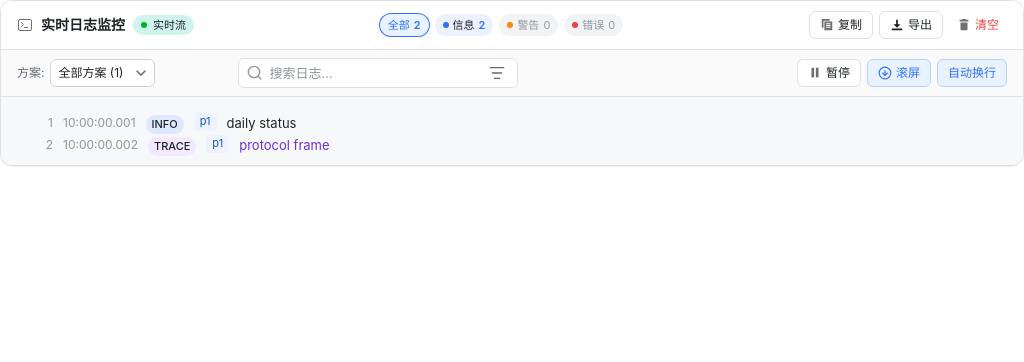
Test: LogDashboard (日志监控组件) › TRACE 筛选只显示 trace 级别日志
# 打开查找设置浮层并筛选 TRACE 级别
Step 1. Click the button titled "查找设置" → [498, 73], box [486,61,510,85]
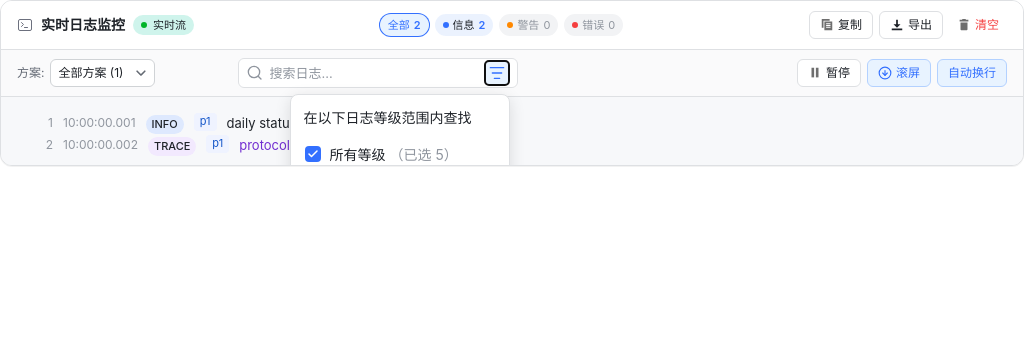
Step 2. Click the text "所有等级" → [358, 154], box [330,144,386,164]
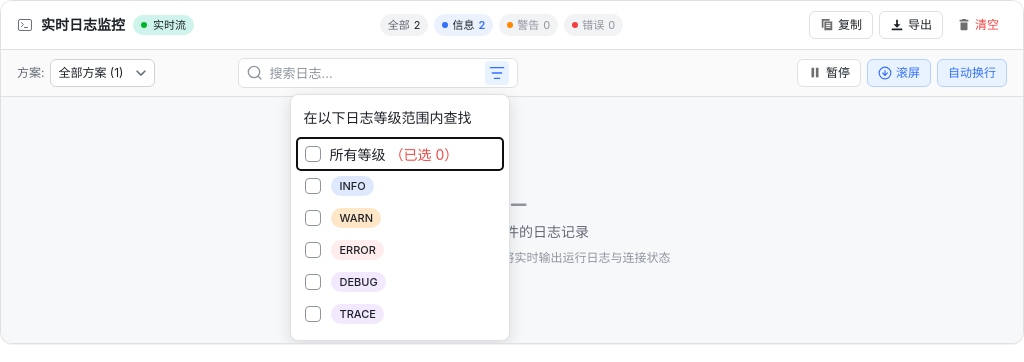
Step 3. Click the button "TRACE" → [345, 314], box [306,304,384,324]
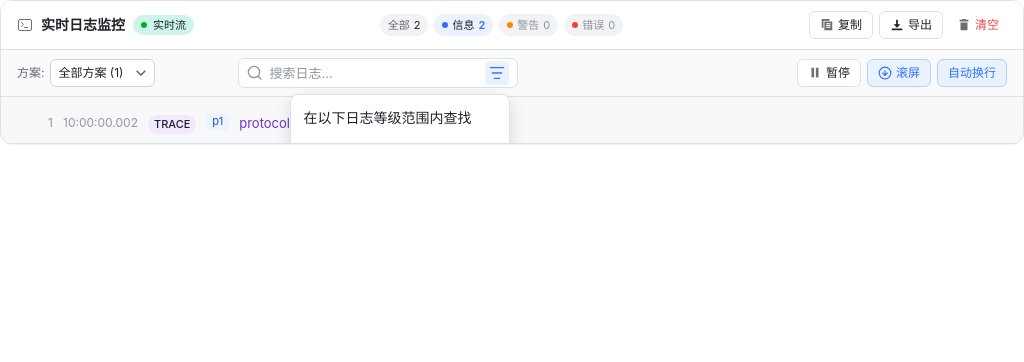
Expected: the text "daily status" is not shown
Expected: the text "protocol frame" is shown, [239,115,330,131]
